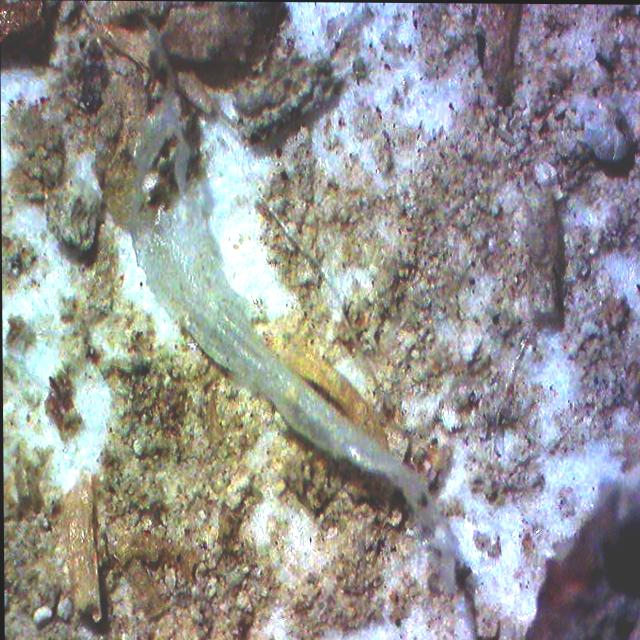microplastic: (126, 112, 463, 556)
